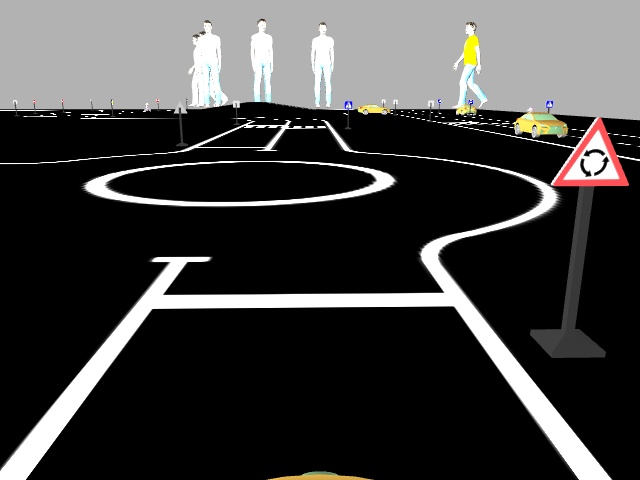Roundabout: (547, 117, 629, 188)
